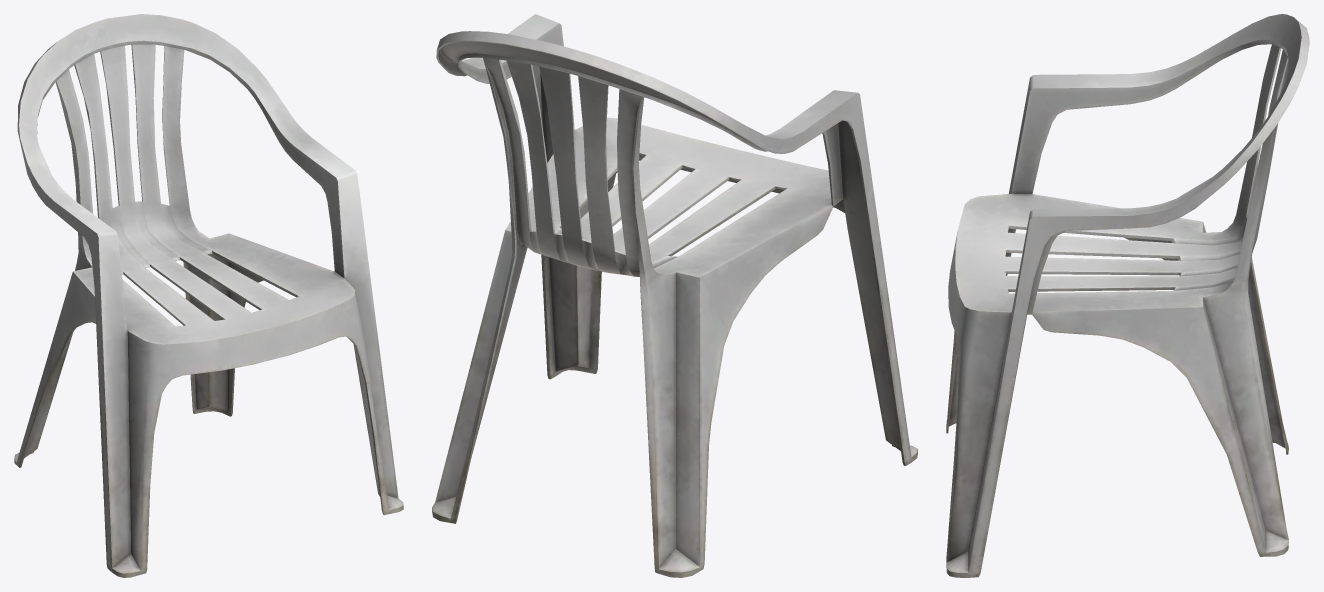
Rendered from scene-chair.glb.
The picture shows the model from 3 angles, left to right: view 1: azimuth 30°, elevation 25°; view 2: azimuth 150°, elevation 25°; view 3: azimuth 270°, elevation 25°; orthographic projection. The views are drawn at different scales.
Visible parts, largest first — view 1: plastic_monobloc_chair_01; view 2: plastic_monobloc_chair_01; view 3: plastic_monobloc_chair_01.
Part boxes in pixels (x1=…): plastic_monobloc_chair_01: x1=14, y1=14, x2=403, y2=577; plastic_monobloc_chair_01: x1=432, y1=14, x2=917, y2=577; plastic_monobloc_chair_01: x1=946, y1=14, x2=1309, y2=577.
Bounding box in the file's own units: 0.6419 × 0.8798 × 0.6276.
Materials: 1 (1 with a texture image).
